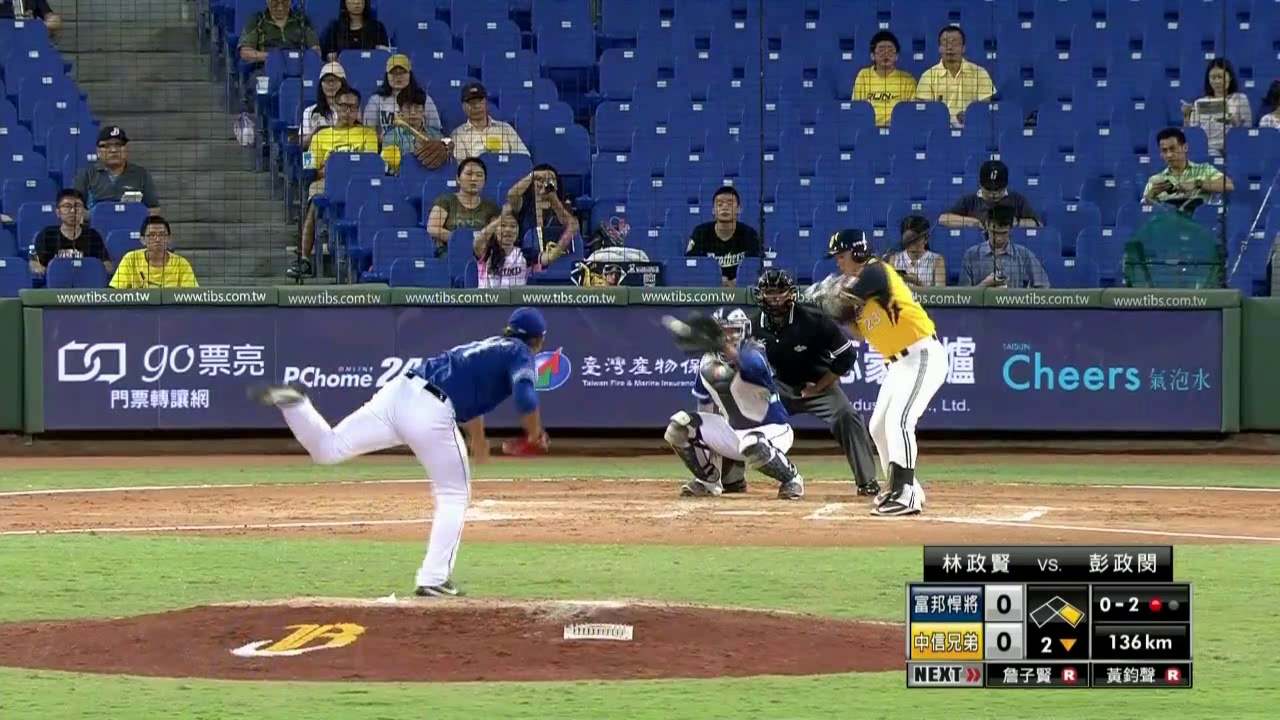ball: (667, 315, 684, 334)
base: (1028, 593, 1086, 629)
bat: (830, 221, 938, 280)
out: (1142, 589, 1187, 619)
score1: (986, 586, 1021, 620)
score2: (987, 626, 1020, 658)
session: (1029, 631, 1085, 660)
speed: (1091, 628, 1186, 658)
strikeball: (1093, 588, 1142, 618)
